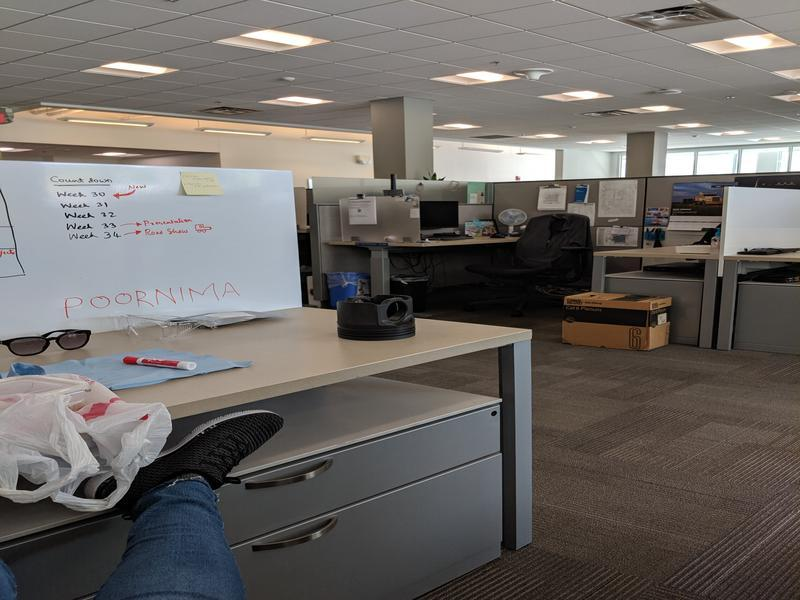piston: (333, 288, 419, 343)
